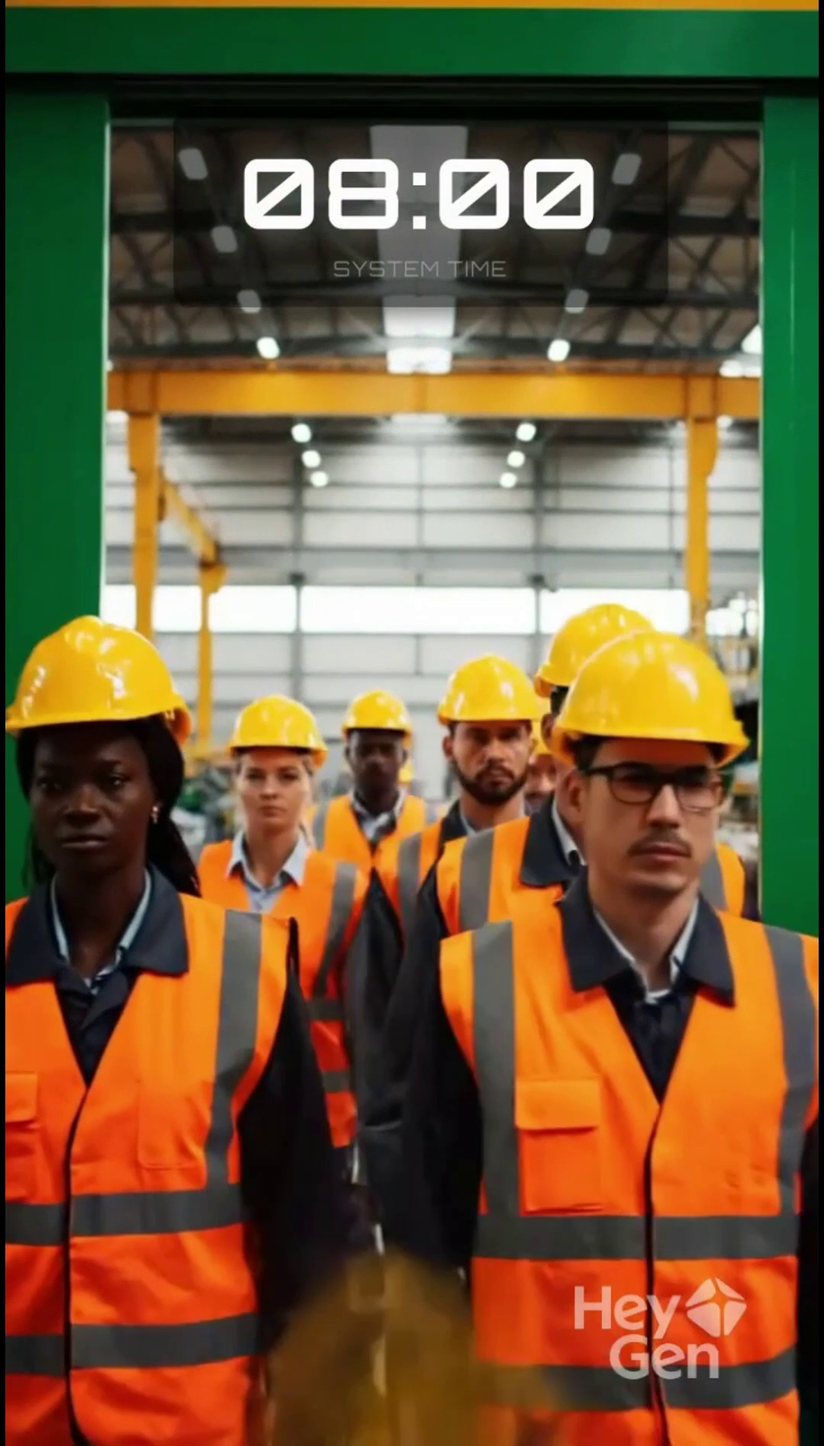Alena: (7, 668, 183, 958)
Mohamed: (563, 692, 747, 954)
employe: (540, 673, 799, 1427), (0, 606, 238, 1375)
porte_verte: (0, 12, 824, 419)
temp: (173, 117, 668, 312)
